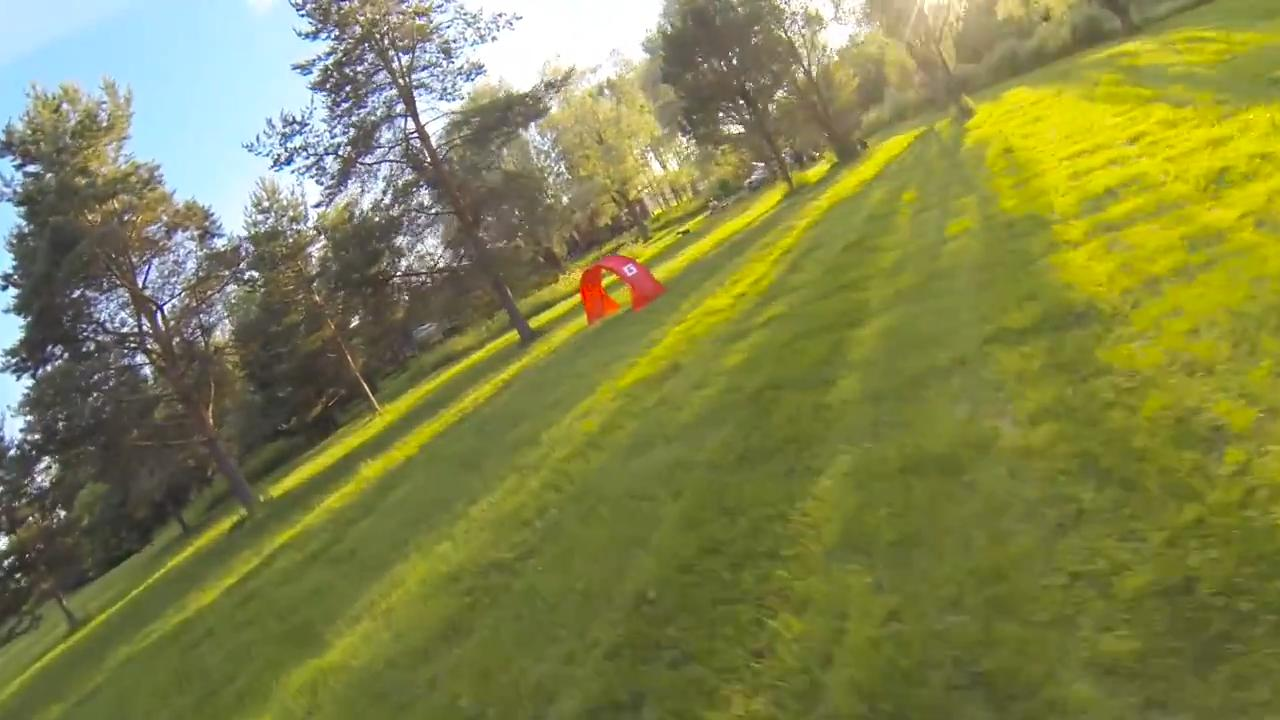gate: (575, 254, 663, 327)
